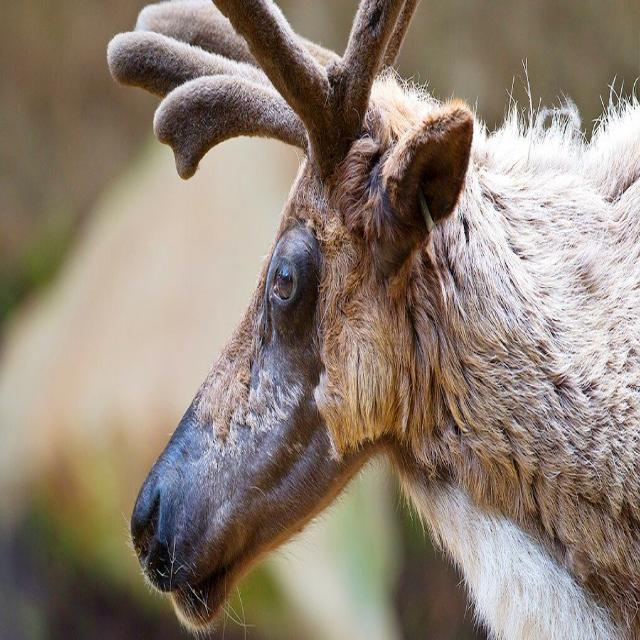reindeer: (109, 0, 640, 639)
